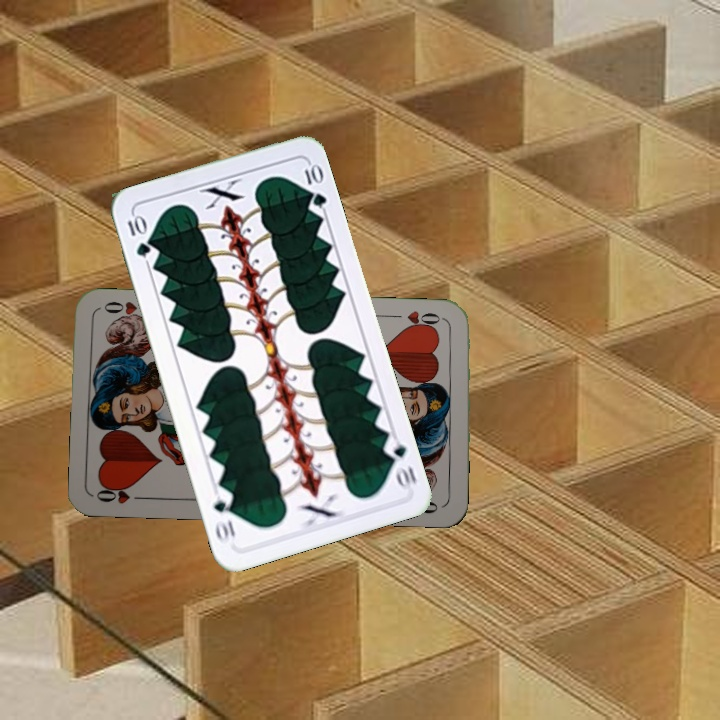G10: (380, 433, 419, 493), (123, 211, 153, 260)
HO: (388, 306, 448, 333), (92, 481, 152, 507)
